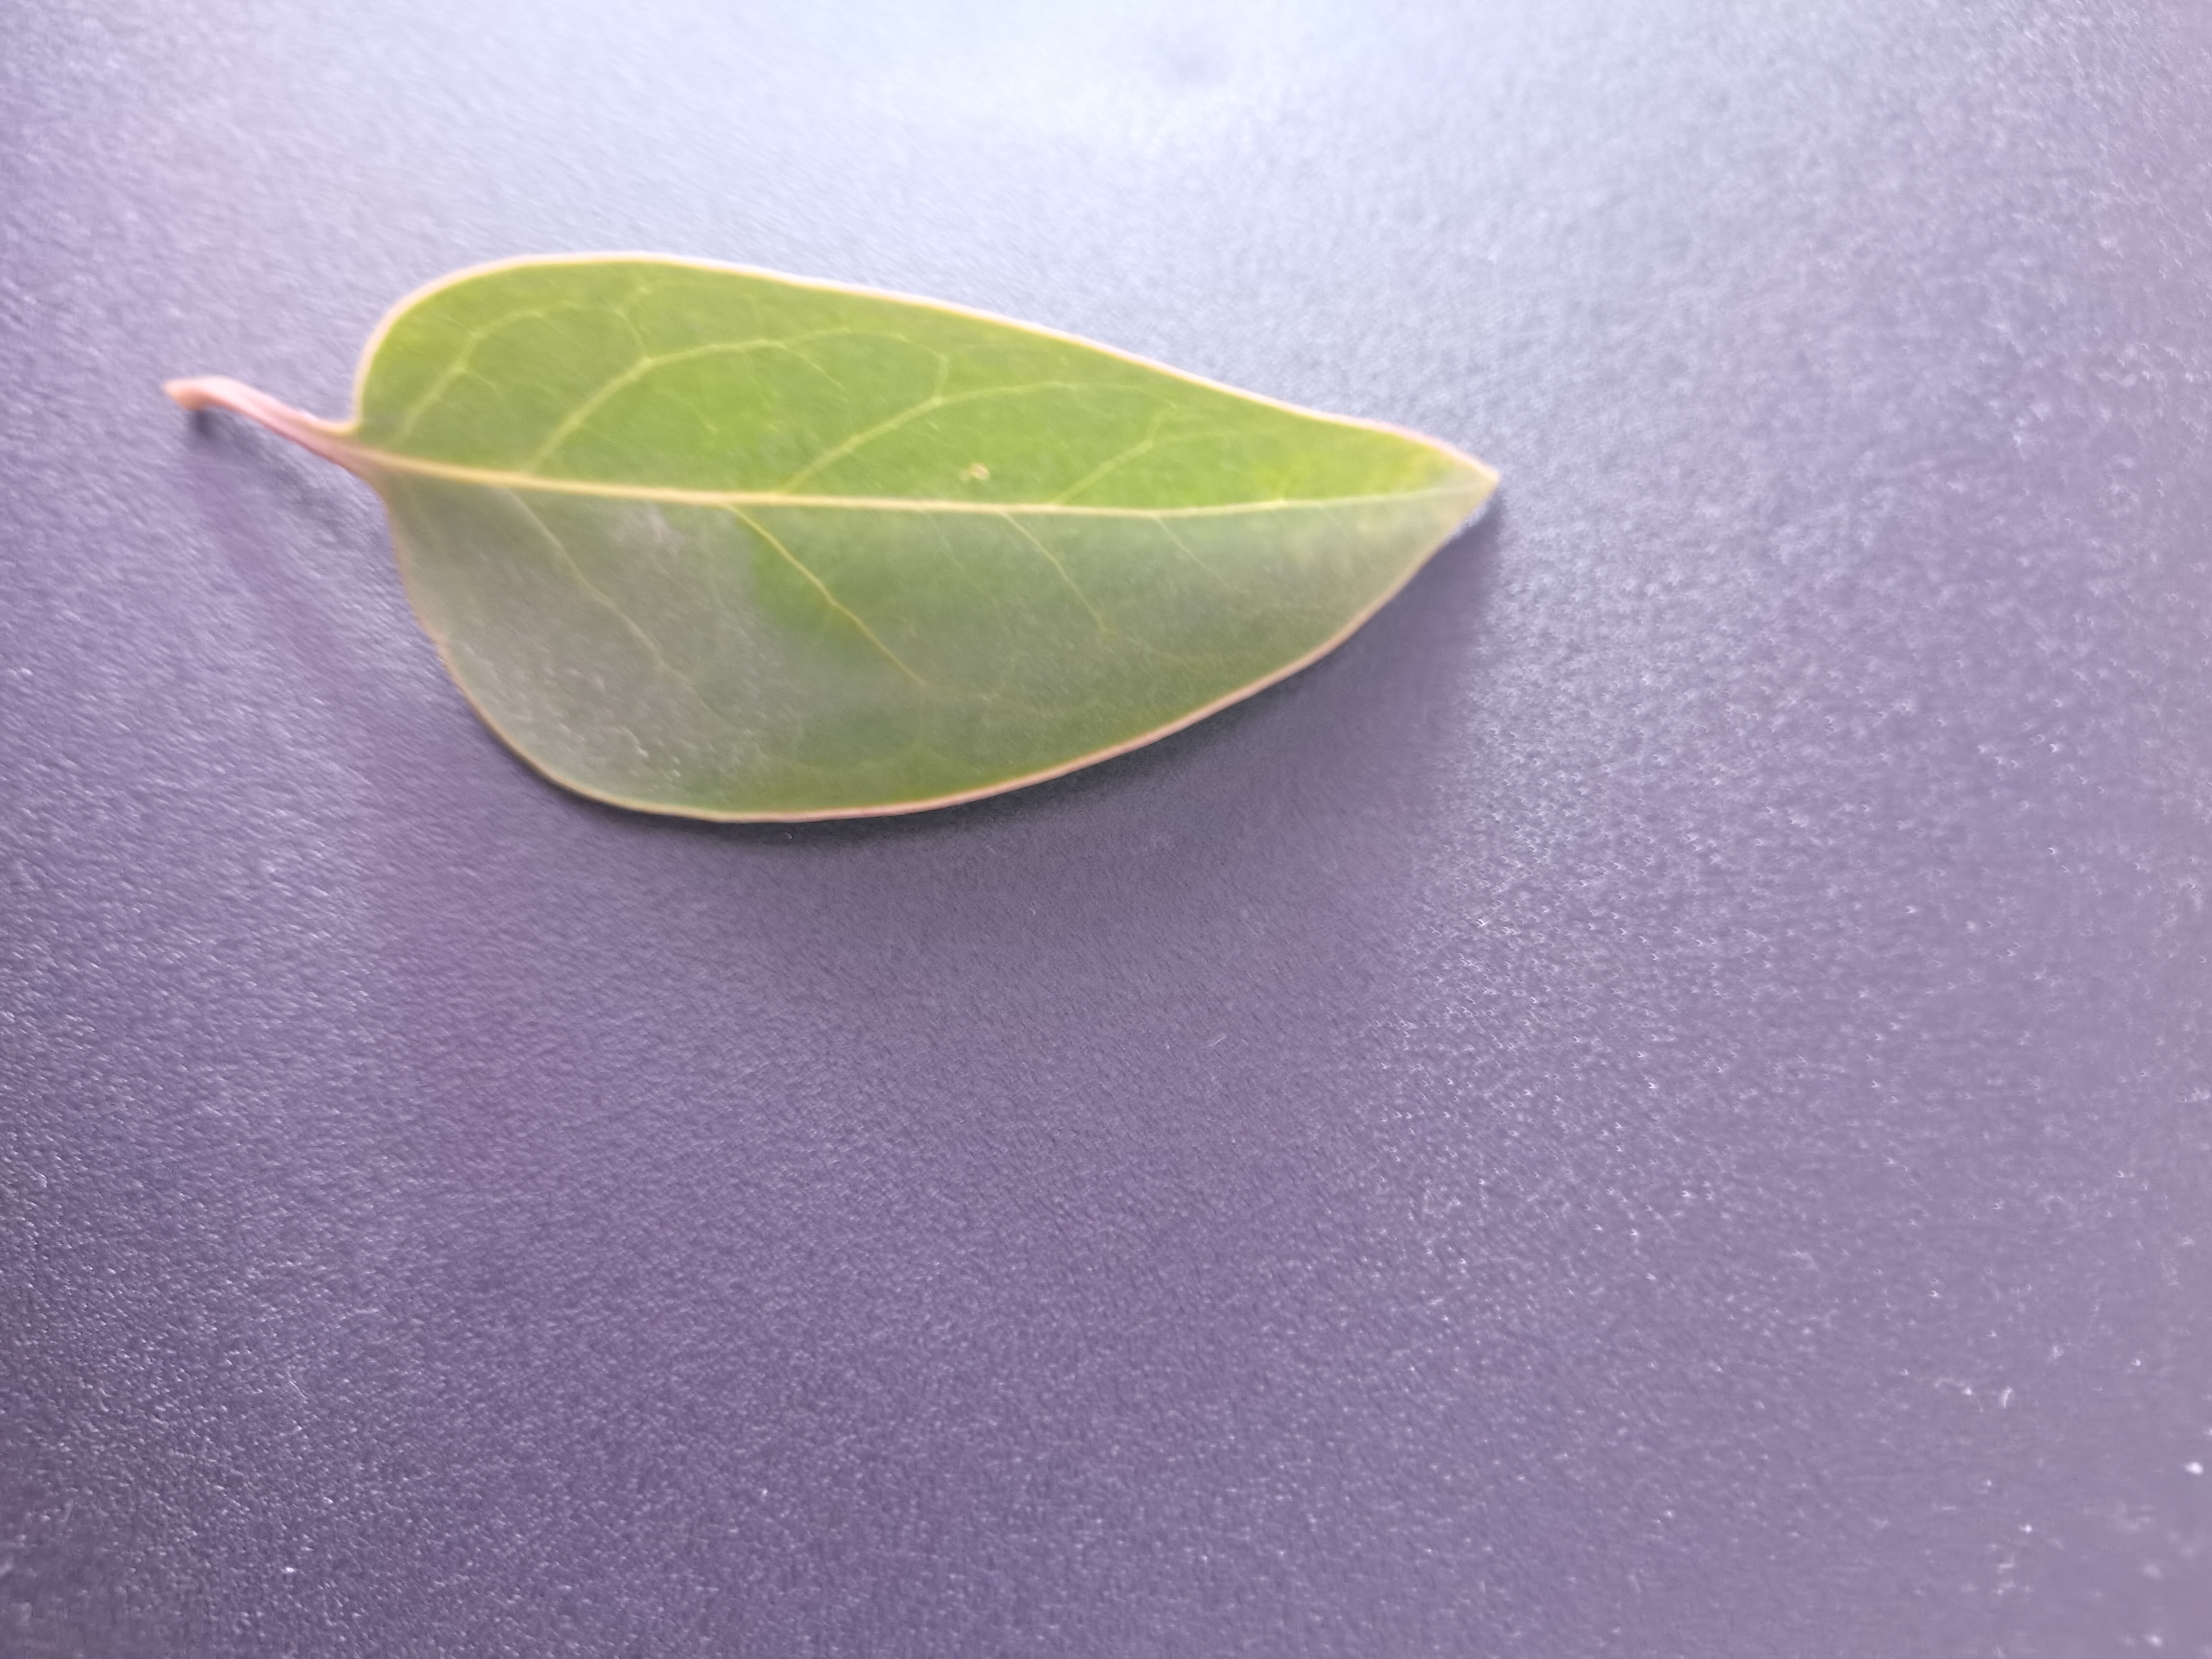4/易腐垃圾/叶子: (157, 249, 1505, 824)
